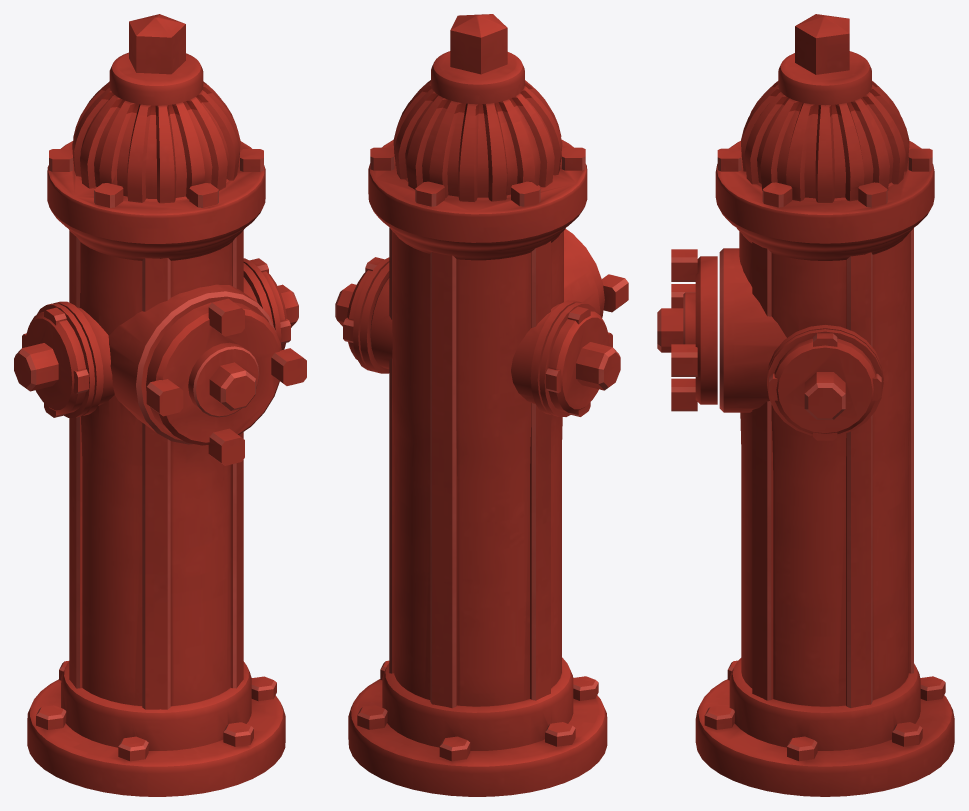
Rendered from houdini_residential_hydrant.glb.
3 renders of one model, left to right at view 1: azimuth 30°, elevation 25°; view 2: azimuth 150°, elevation 25°; view 3: azimuth 270°, elevation 25°, orthographic.
Parts seen in each view (by area): view 1: LOD0; view 2: LOD0; view 3: LOD0.
Part boxes in pixels (left/top/right/bottom): LOD0: left=14, top=14, right=306, bottom=796; LOD0: left=335, top=14, right=628, bottom=796; LOD0: left=657, top=14, right=954, bottom=796.
Size of what is drawn, in the model's own units: 0.308 by 0.796 by 0.2958.
Materials: 1 (1 with a texture image).
